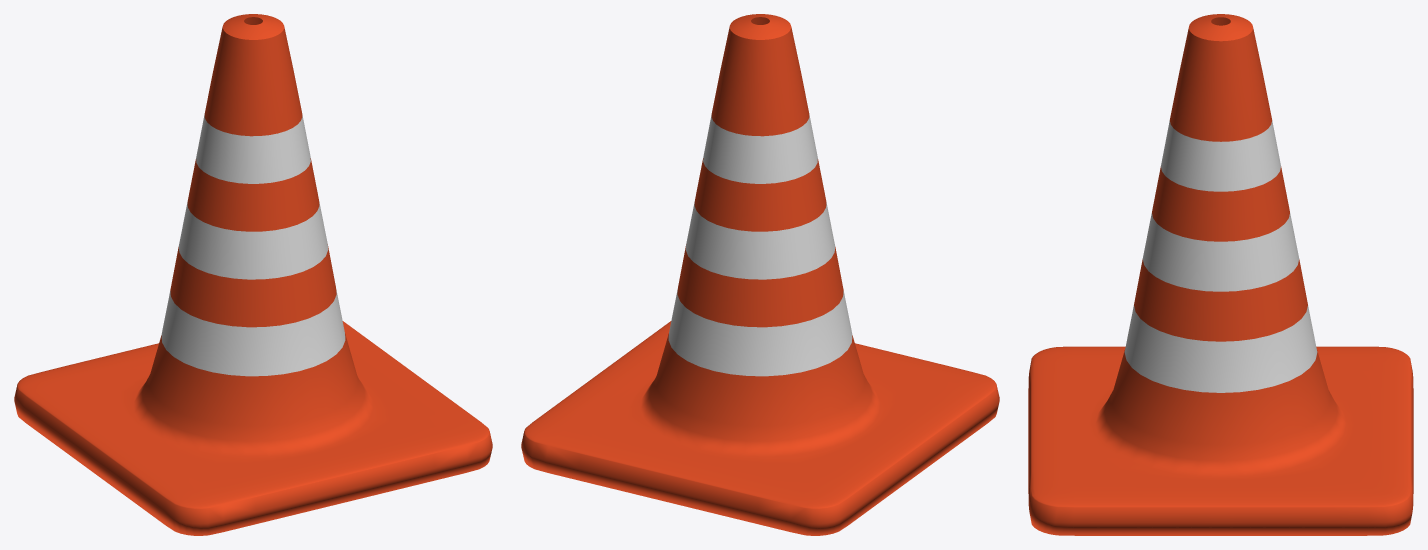
Rendered from Conus 1.fbx.
The picture shows the model from 3 angles, left to right: view 1: azimuth 30°, elevation 25°; view 2: azimuth 150°, elevation 25°; view 3: azimuth 270°, elevation 25°; orthographic projection. The views are drawn at different scales.
Parts seen in each view (by area): view 1: Object_2; view 2: Object_2; view 3: Object_2.
Part boxes in pixels (x1,y1,x2,y2): Object_2: (14, 14, 492, 535); Object_2: (521, 14, 999, 535); Object_2: (1028, 14, 1413, 535).
Size of the model in its own units: 10.23 by 12.73 by 10.23.
